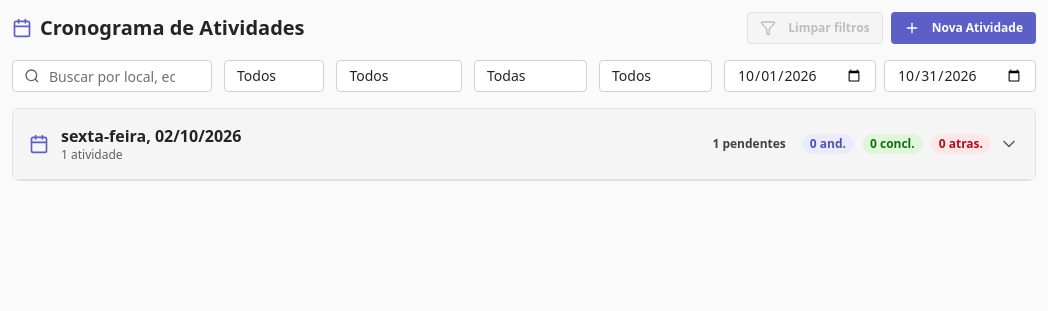
Test: CronogramaView — ações de execução › marca a atividade como em andamento
Click the 3rd button at {"x": 151, "y": 136}, box [13,109,1035,180]
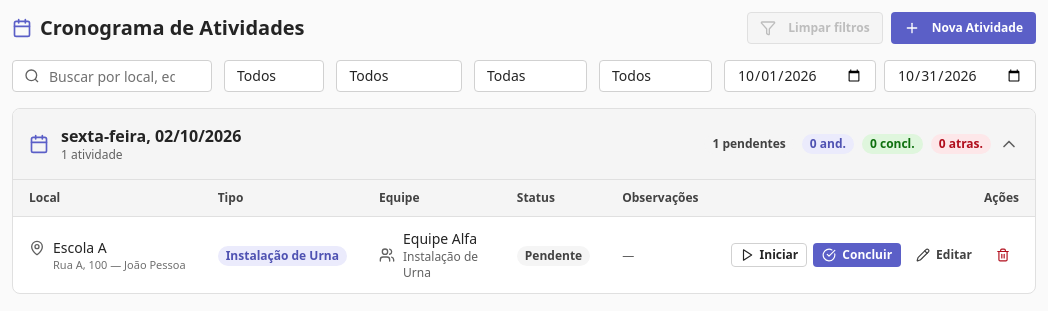
Click the button "Iniciar" at {"x": 769, "y": 255}, box [731,243,807,267]
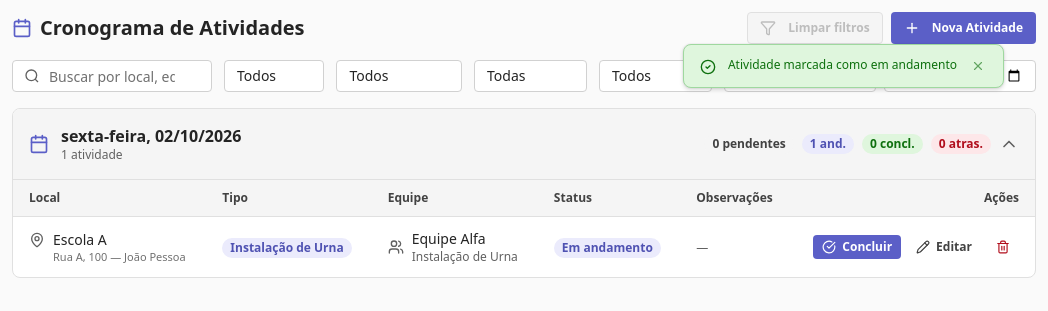
Expected: the text "Em andamento" is shown, [554,238,661,258]
